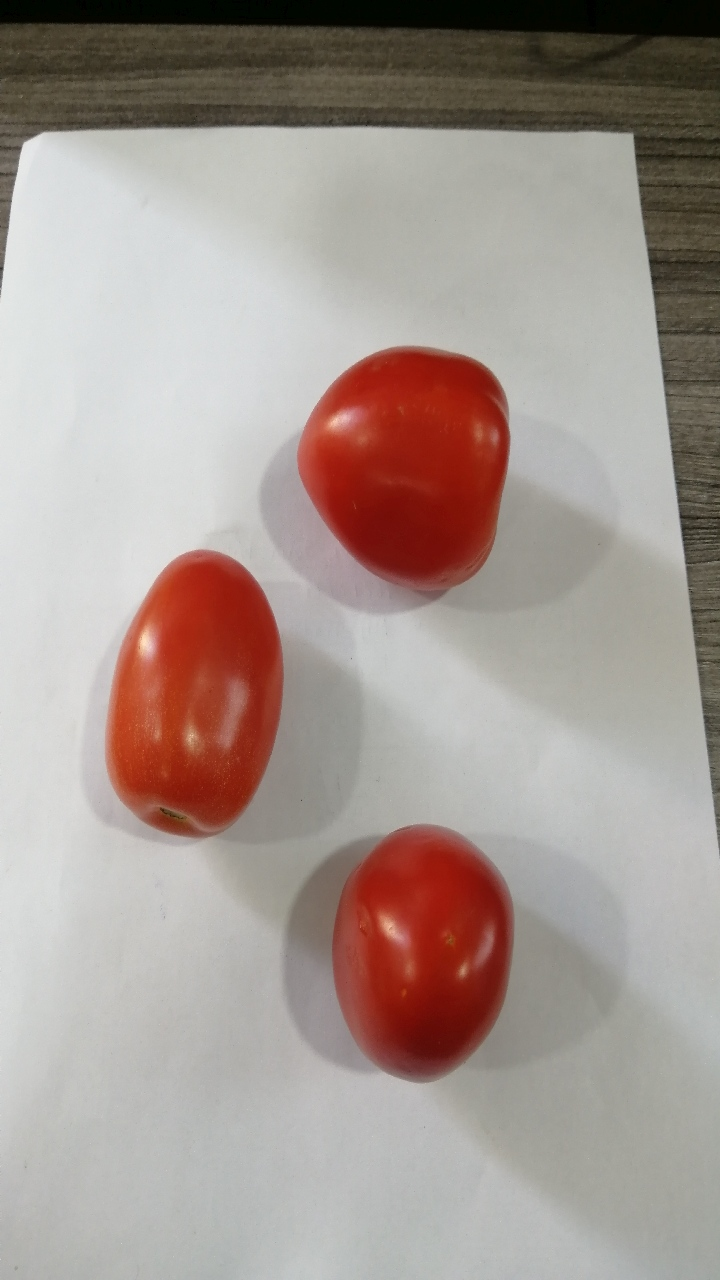tomateRojo: (71, 529, 292, 860), (268, 315, 524, 600), (323, 797, 541, 1115)
